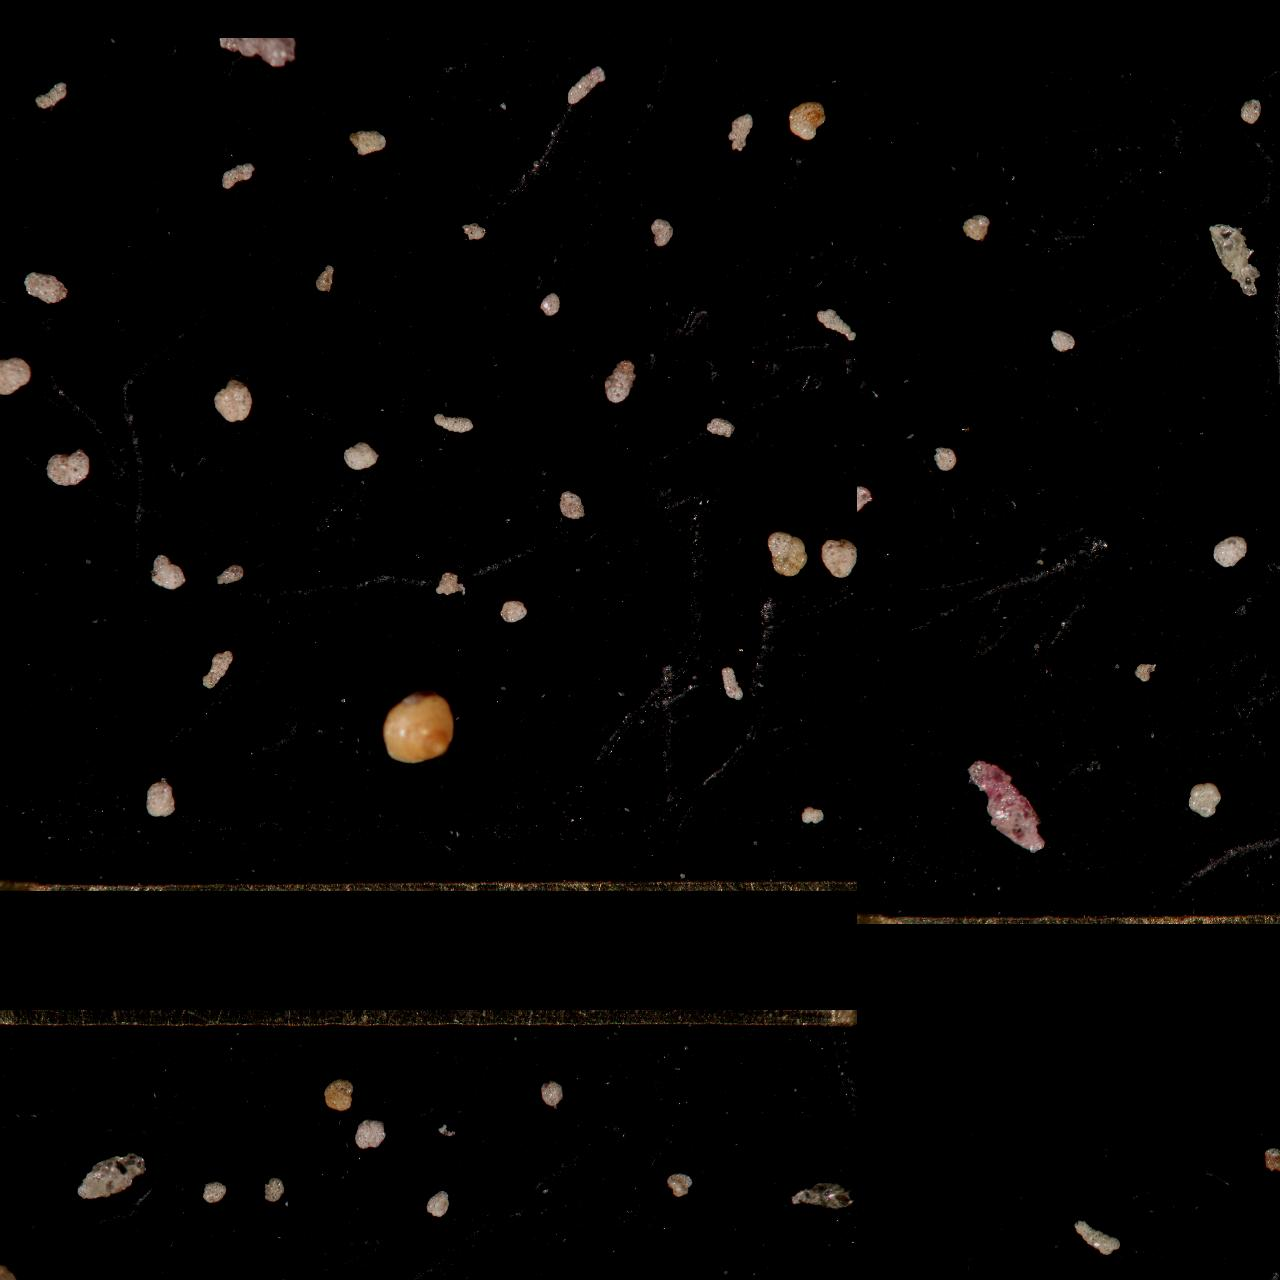agglutinated: (965, 760, 1047, 855), (381, 689, 456, 764), (0, 1210, 77, 1280), (1208, 223, 1261, 299), (75, 1153, 148, 1199), (216, 39, 297, 68), (765, 532, 808, 578), (45, 449, 91, 489), (1070, 1219, 1119, 1257), (565, 66, 607, 107), (212, 379, 252, 422), (22, 272, 70, 306), (788, 101, 826, 142), (857, 1212, 883, 1273), (602, 361, 638, 406), (791, 1184, 853, 1208), (821, 538, 857, 579), (199, 651, 234, 692), (815, 308, 857, 341), (150, 554, 186, 592), (145, 777, 177, 819), (0, 358, 30, 396), (347, 129, 388, 157), (341, 442, 377, 472), (1211, 537, 1247, 567), (728, 114, 755, 152), (1187, 784, 1219, 817), (34, 81, 68, 111), (324, 1080, 353, 1114), (220, 164, 256, 192), (431, 413, 475, 435), (353, 1121, 386, 1150), (719, 667, 745, 701), (434, 571, 468, 597), (857, 556, 878, 594), (0, 57, 22, 94), (557, 492, 586, 519), (961, 215, 990, 241), (648, 219, 674, 246), (538, 1080, 564, 1107), (497, 601, 529, 622), (423, 1192, 449, 1218), (215, 564, 244, 586), (665, 1173, 692, 1197), (704, 418, 735, 438), (933, 447, 958, 471), (1049, 329, 1075, 353), (538, 292, 560, 319), (313, 265, 334, 293), (459, 222, 486, 243), (202, 1182, 229, 1203), (857, 696, 872, 733), (1239, 100, 1261, 124), (263, 1179, 285, 1203), (1132, 662, 1156, 683), (857, 316, 874, 345), (1262, 1148, 1280, 1175), (857, 486, 873, 515), (799, 806, 823, 825), (857, 1152, 871, 1182), (0, 200, 13, 226), (857, 1129, 869, 1151), (857, 417, 867, 438)
